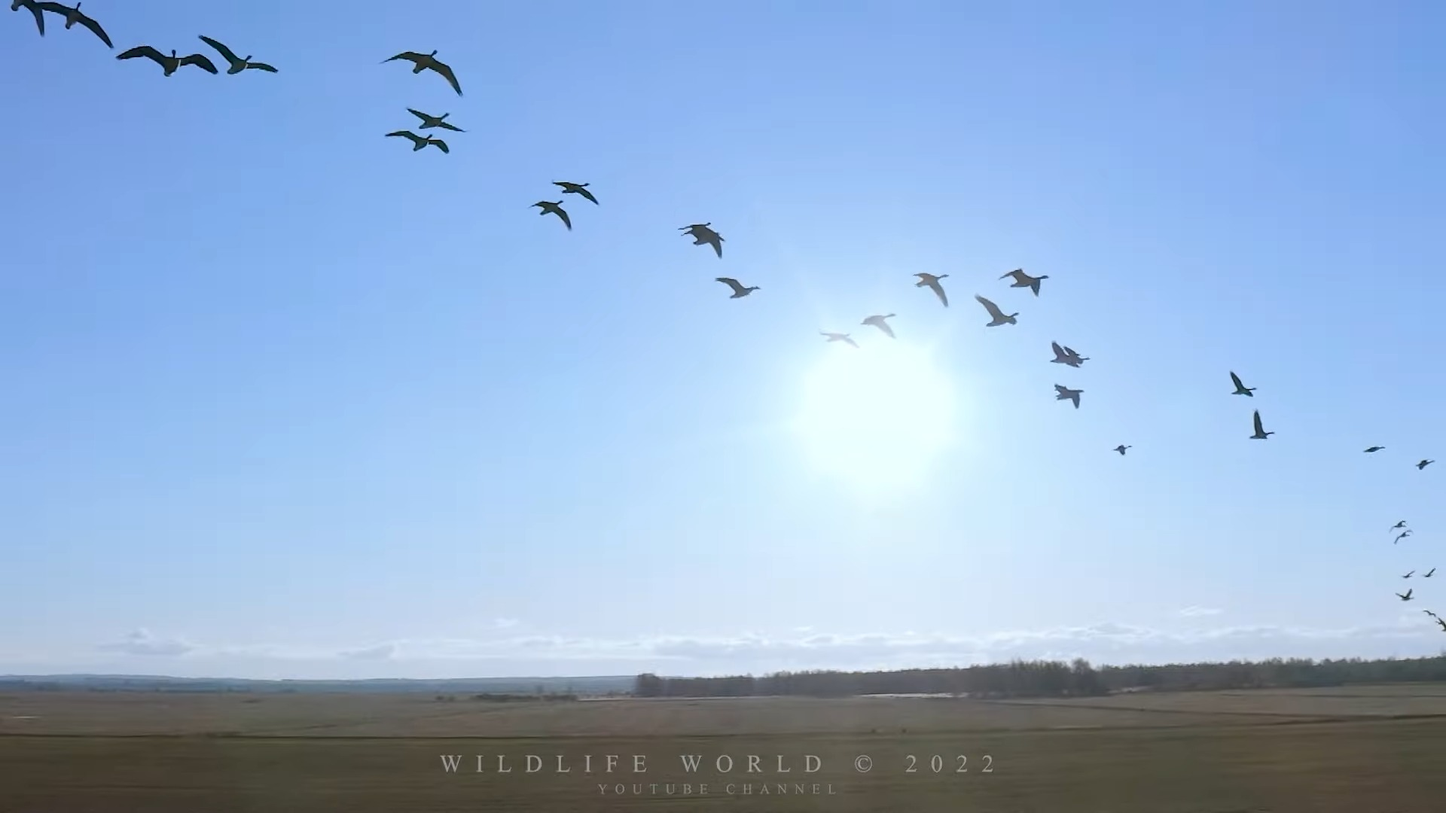not_drone: (383, 38, 469, 96), (202, 27, 272, 80), (123, 44, 218, 83), (42, 4, 111, 51), (383, 125, 460, 164), (912, 264, 959, 309), (998, 268, 1058, 298), (529, 194, 578, 230), (409, 104, 462, 137), (978, 298, 1024, 336), (548, 172, 602, 203), (678, 222, 728, 255), (1222, 365, 1262, 401), (855, 309, 902, 336), (718, 269, 757, 301), (1047, 337, 1088, 366), (1053, 381, 1088, 411), (1245, 416, 1277, 446), (1397, 586, 1427, 610), (1422, 557, 1442, 584), (1115, 439, 1135, 461), (1362, 441, 1387, 458), (1411, 456, 1436, 473), (1390, 510, 1411, 530), (1429, 606, 1445, 630), (1390, 529, 1409, 547), (1397, 567, 1415, 578)
